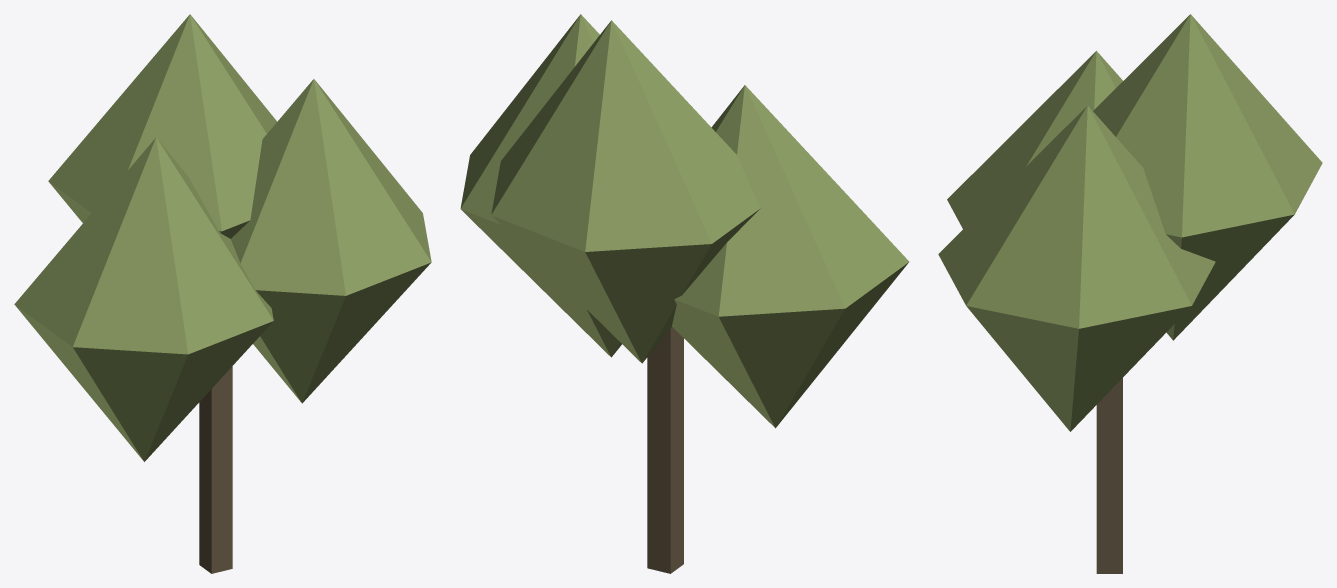
The model's file is ua_young_willow.obj.
The picture shows the model from 3 angles, left to right: view 1: azimuth 30°, elevation 25°; view 2: azimuth 150°, elevation 25°; view 3: azimuth 270°, elevation 25°; orthographic projection. The views are drawn at different scales.
Visible parts, largest first — view 1: ua_young_willow; view 2: ua_young_willow; view 3: ua_young_willow.
Part boxes in pixels (x1,y1,x2,y2): ua_young_willow: (14, 14, 431, 573); ua_young_willow: (460, 14, 909, 573); ua_young_willow: (938, 14, 1322, 573).
Bounding box in the file's own units: 2.12 × 2.83 × 1.76.
